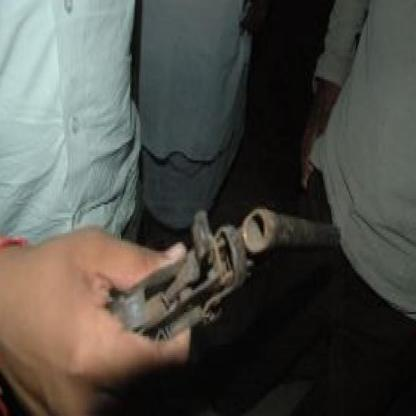handgun: (39, 199, 344, 416)
